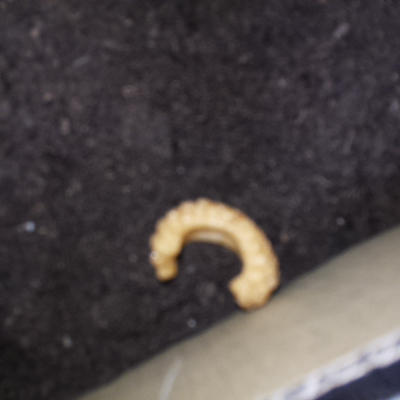eggs: (141, 189, 288, 317)
